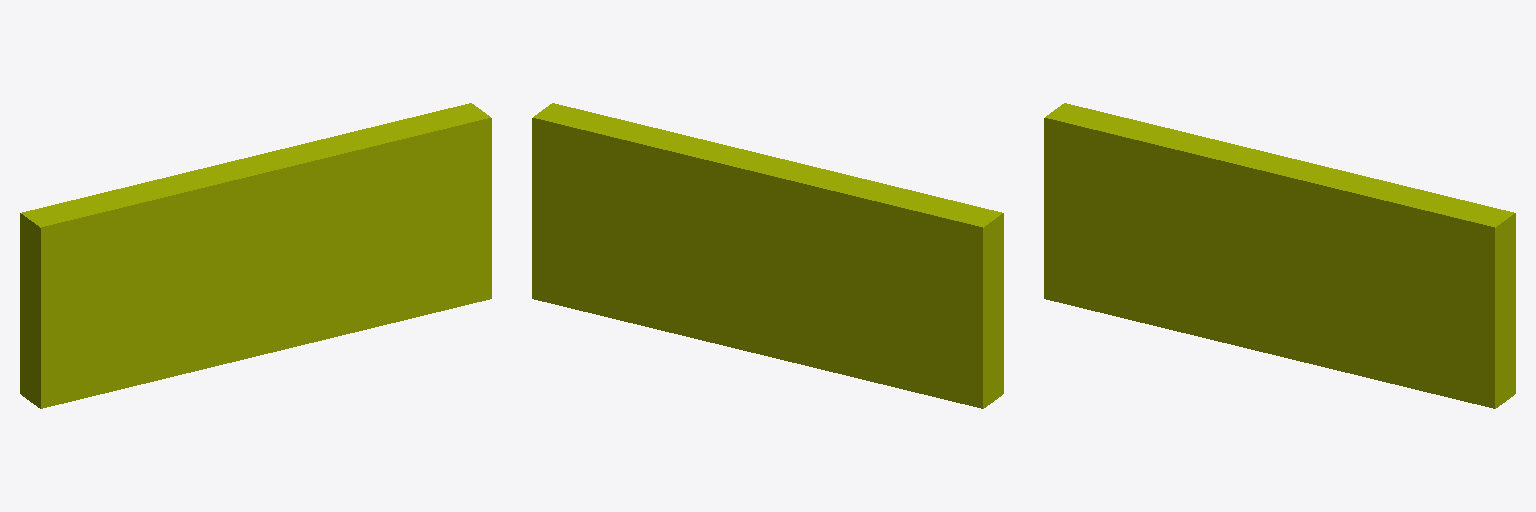
URDF robot description (back_boundary):
<?xml version="1.0"?>
<!-- created with Phobos 1.0.1 "Capricious Choutengan" -->
  <robot name="back_boundary">

    <link name="back_wall">
      <inertial>
        <contact>
          <lateral_friction value="1"/>
        </contact>
        <origin xyz="0 0 0" rpy="0 0 0"/>
        <mass value="0.001"/>
        <inertia ixx="0.001" ixy="0" ixz="0" iyy="0.001" iyz="0" izz="0.001"/>
      </inertial>
      <visual name="Cube">
        <origin xyz="0 0 0" rpy="0 0 0"/>
        <geometry>
          <box size="1.3 0.1 0.5"/>
        </geometry>
        <material name="blue"/>
      </visual>
      <collision>
        <origin rpy="0 0 0" xyz="0 0 0"/>
        <geometry>
          <box size="1.3 0.1 0.5"/>
        </geometry>
      </collision>
    </link>

    <material name="blue">
      <color rgba="0.68 0.74 0.04 1.0"/>
    </material>

  </robot>

--- Facts derived from the render (not from the file) ---
3 views of the same robot in one strip: view 1: azimuth 30°, elevation 25°; view 2: azimuth 150°, elevation 25°; view 3: azimuth 330°, elevation 25° (orthographic).
Model back_boundary with 1 links and 0 joints (none), rooted at back_wall, posed every joint at zero.
Visible links, largest first — view 1: back_wall; view 2: back_wall; view 3: back_wall.
Link boxes in pixels (<box>): back_wall: <box>20,103,491,408</box>; back_wall: <box>532,103,1003,408</box>; back_wall: <box>1044,103,1515,408</box>.
Size in the robot's own frame: 1.3 by 0.1 by 0.5 metres.
Geometry: primitives only (box / cylinder / sphere), no mesh files.